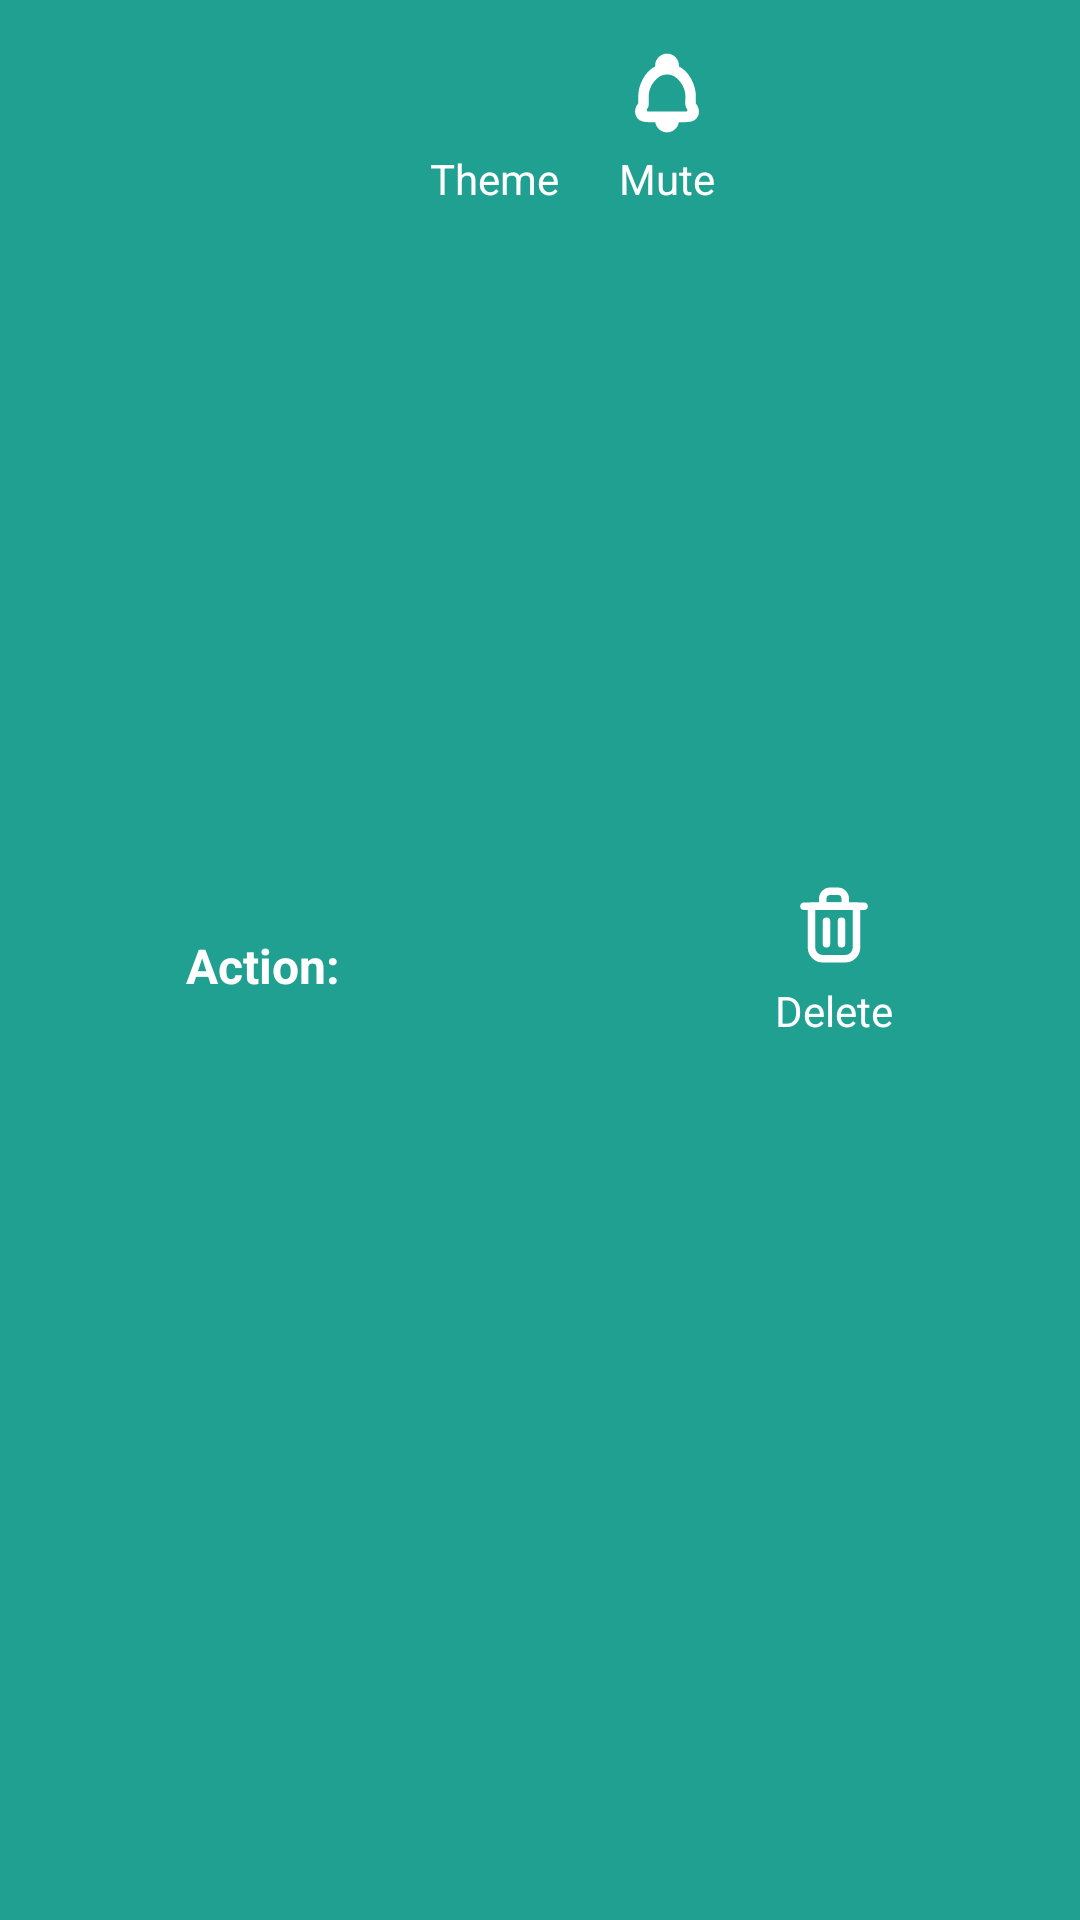

Locate icon controls on the screen. Image size 1080 × 1920, boxes as (x1, y1, x2, y2).
notifications: (635, 53, 699, 133)
